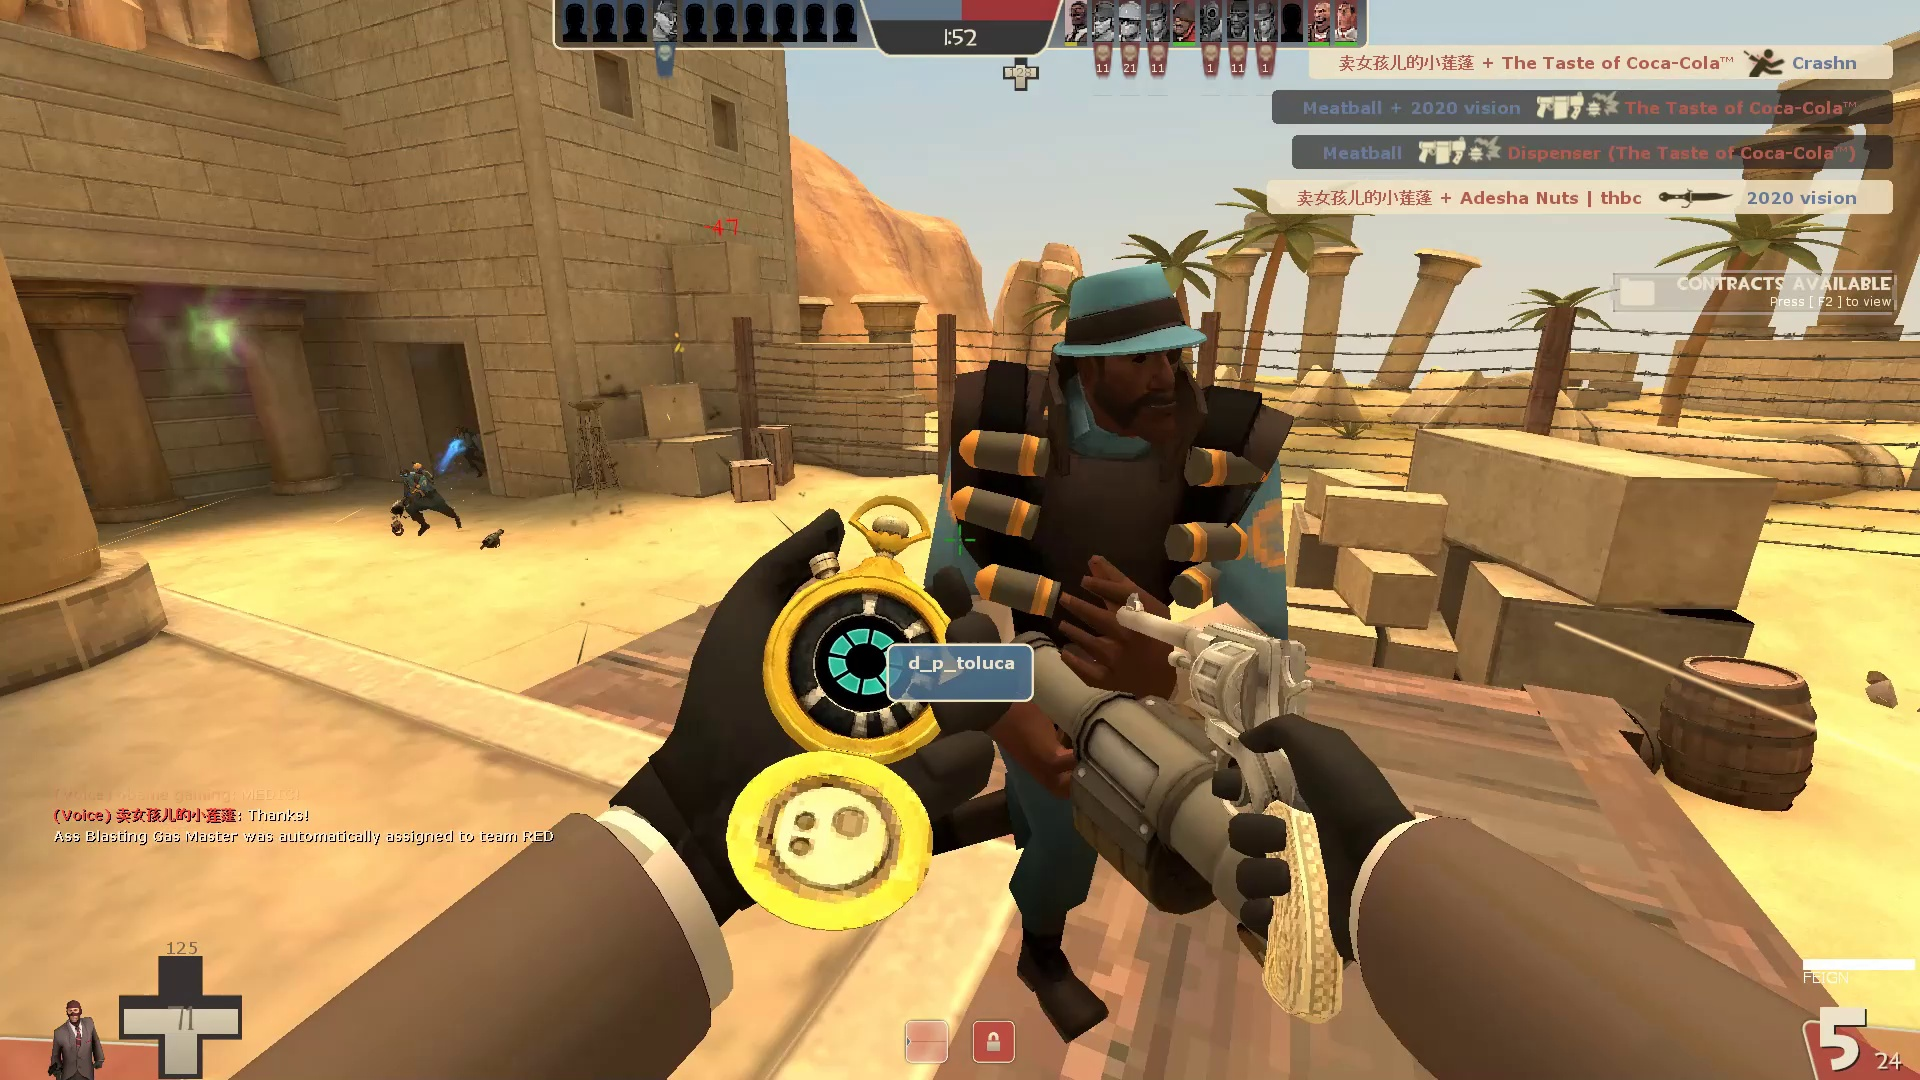blu_demo: (880, 258, 1319, 1073)
blu_medic: (443, 421, 492, 485)
blu_pyro: (382, 455, 469, 541)
